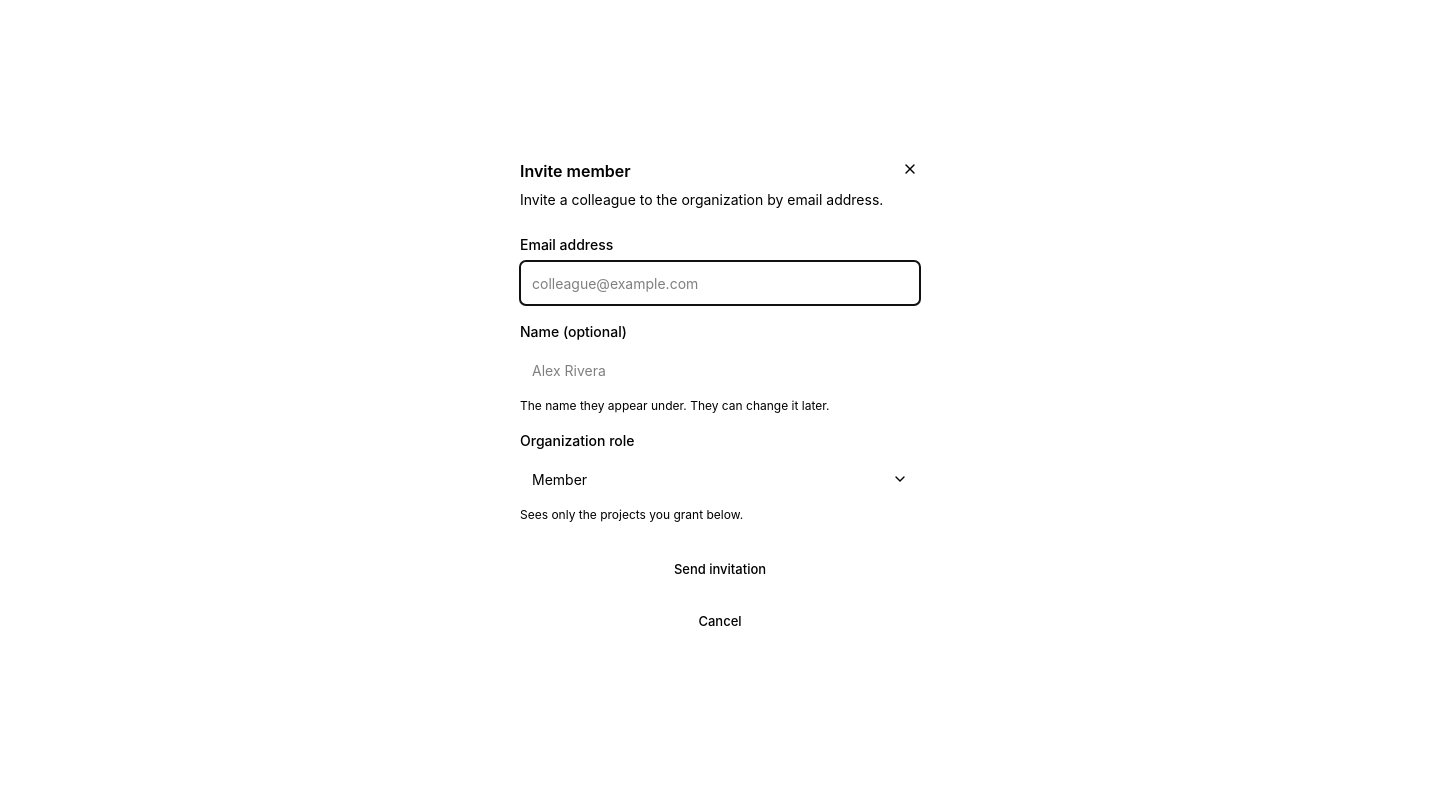
Scenario: the invite dialog › says what each role sees
Expected: the text with test id "invite-role-hint" reads "Sees only the projects you grant below.", x1=520 y1=507 x2=743 y2=522
Click the dropdown named "Organization role". click: (560, 479)
box: x1=520 y1=457 x2=920 y2=501
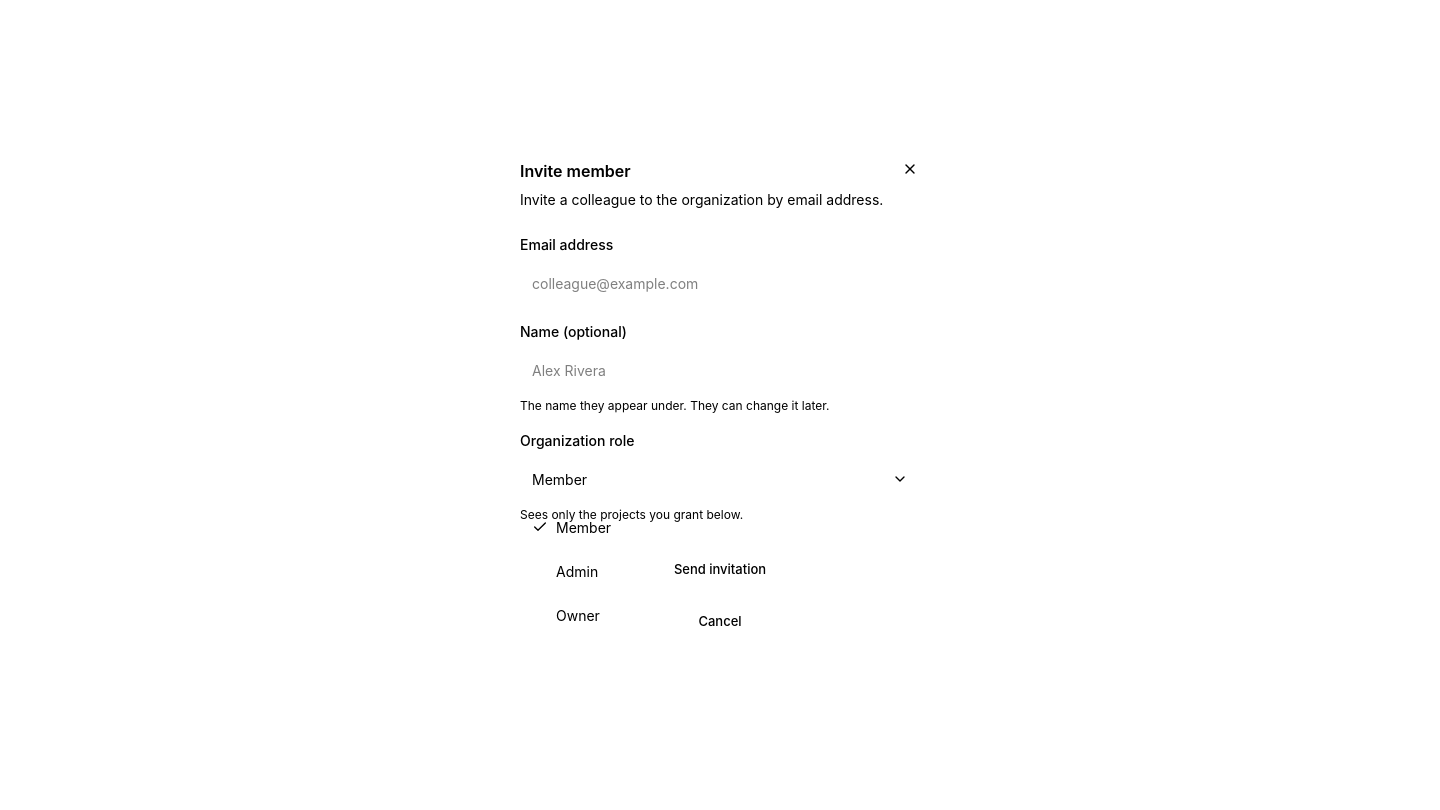
Click the option "Admin". click: (577, 571)
box: x1=556 y1=562 x2=598 y2=580
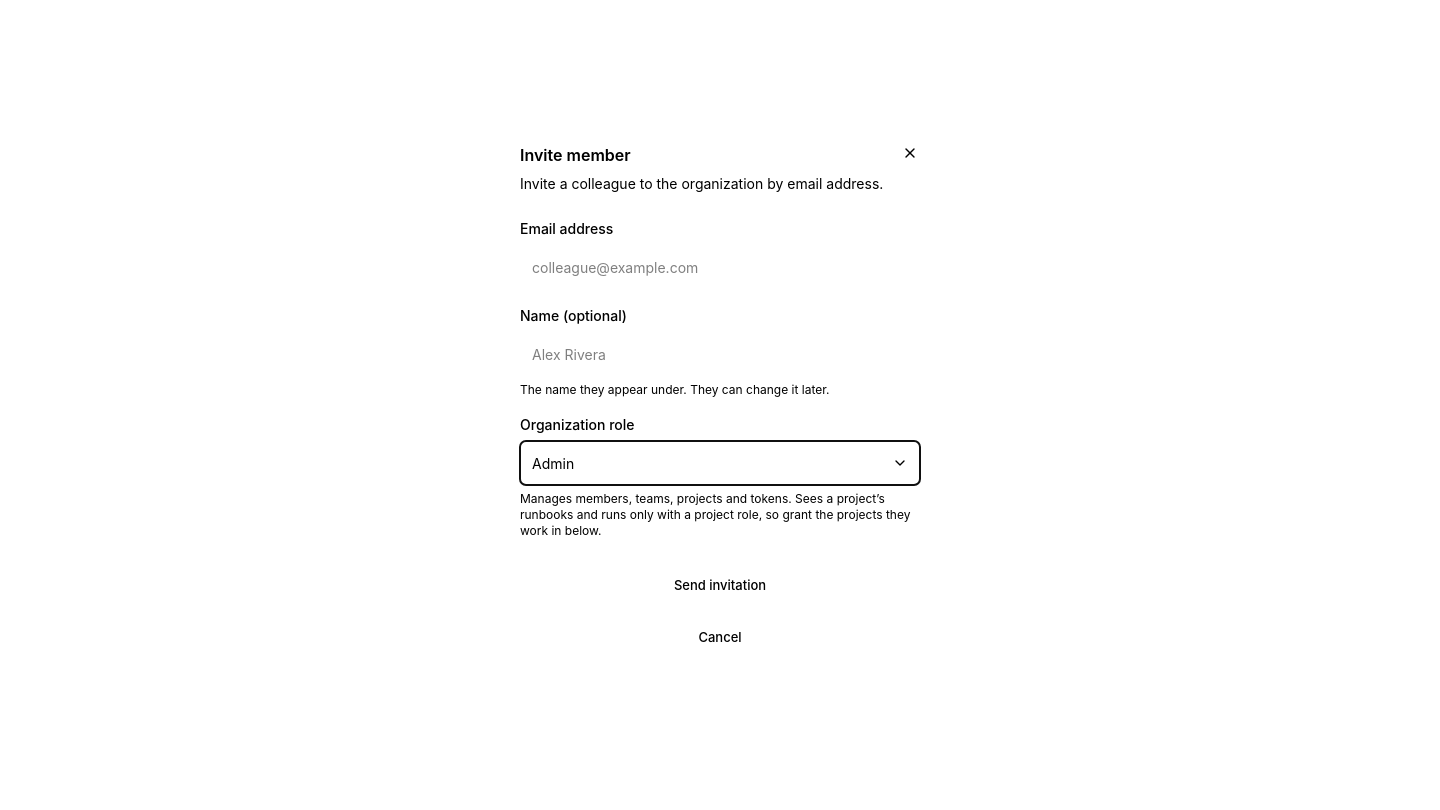
Expected: the text with test id "invite-role-hint" shows "only with a project role", x1=520 y1=491 x2=910 y2=538
